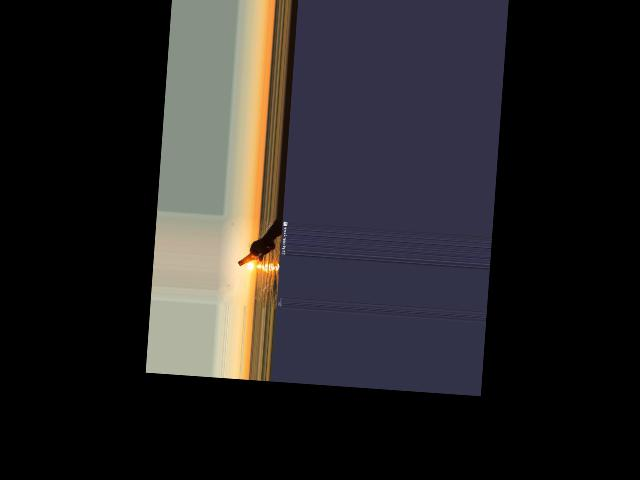beer: (237, 238, 275, 268)
